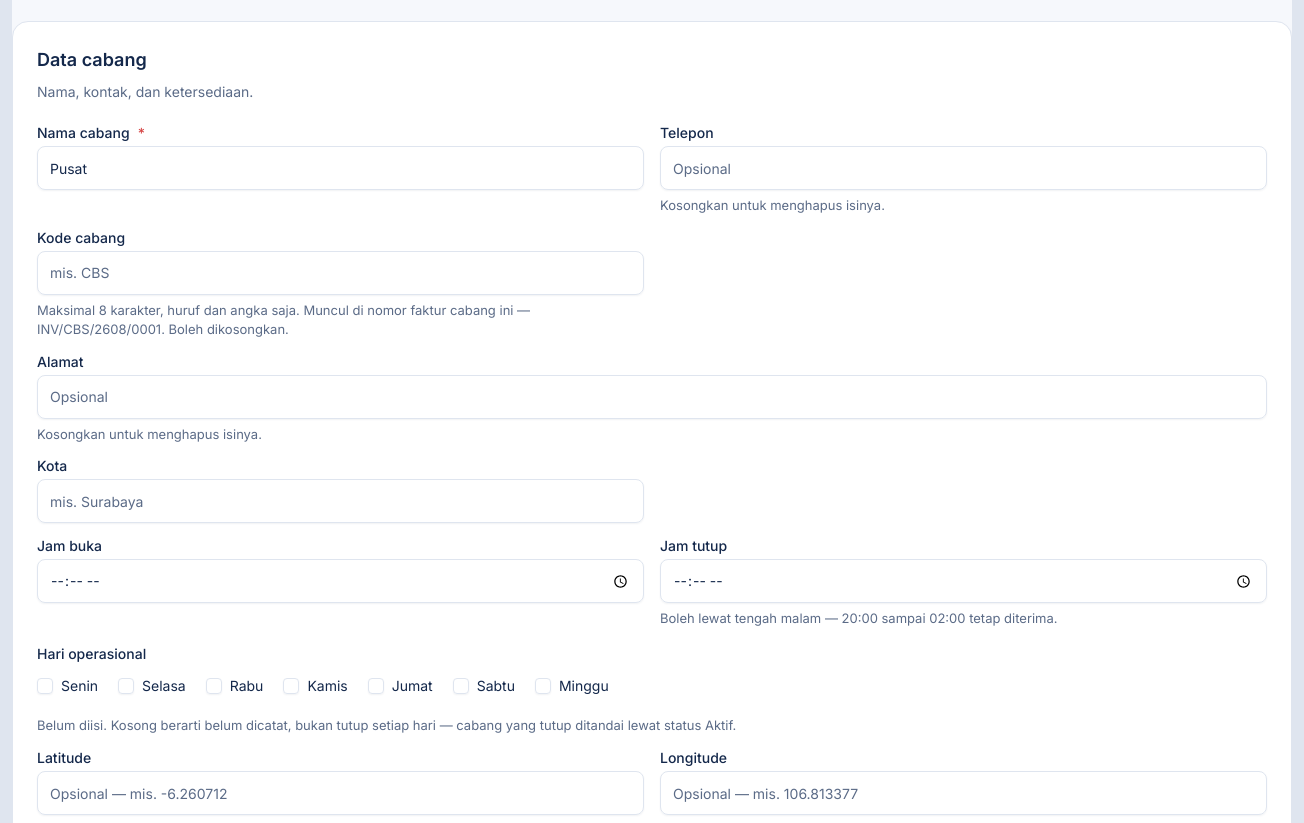
Test: a branch's opening hours › refuses an opening time with no closing one
Type "09:00" into the time field labelled "Jam buka" at [340, 581], box left=37, top=559, right=644, bottom=603
(page scrolled)
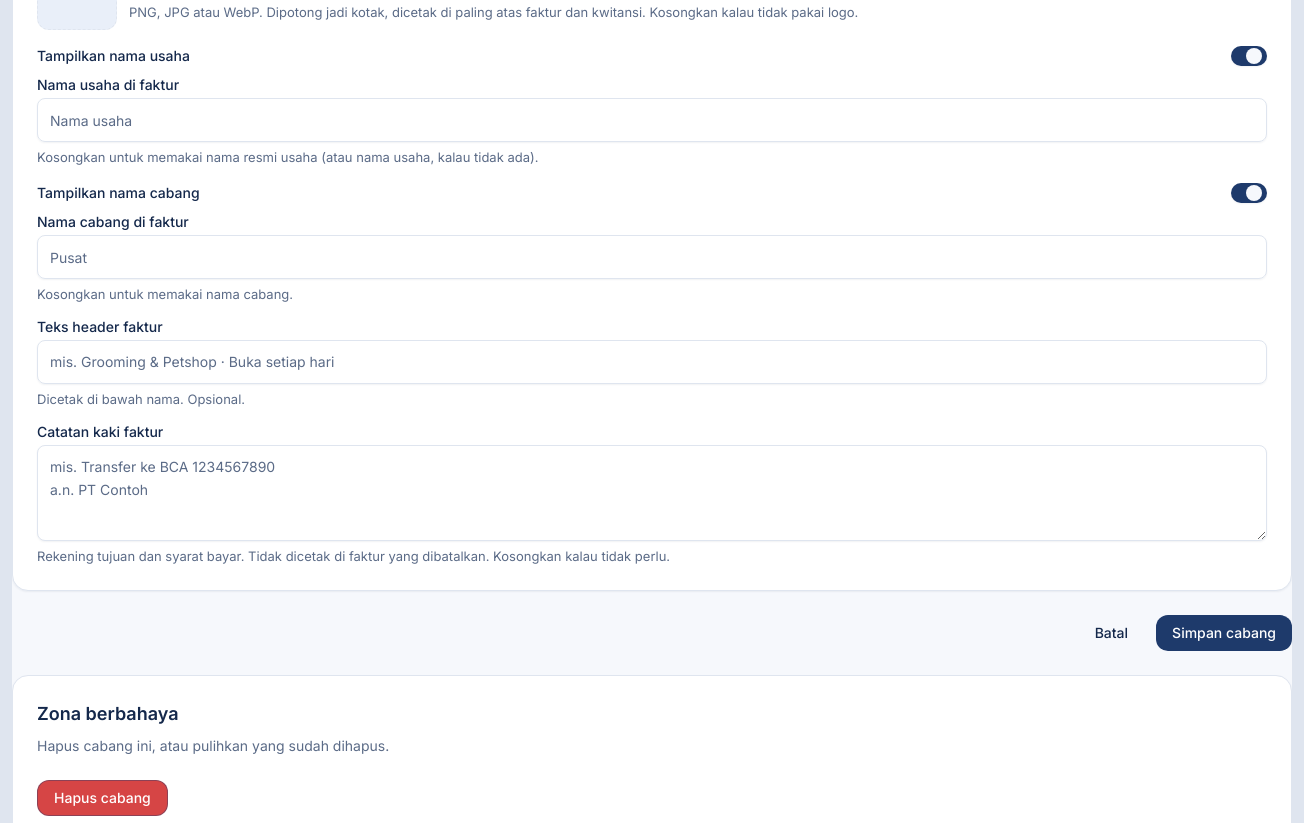
Click the button "Simpan cabang" at [1224, 633], box left=1156, top=615, right=1292, bottom=651
(page scrolled)
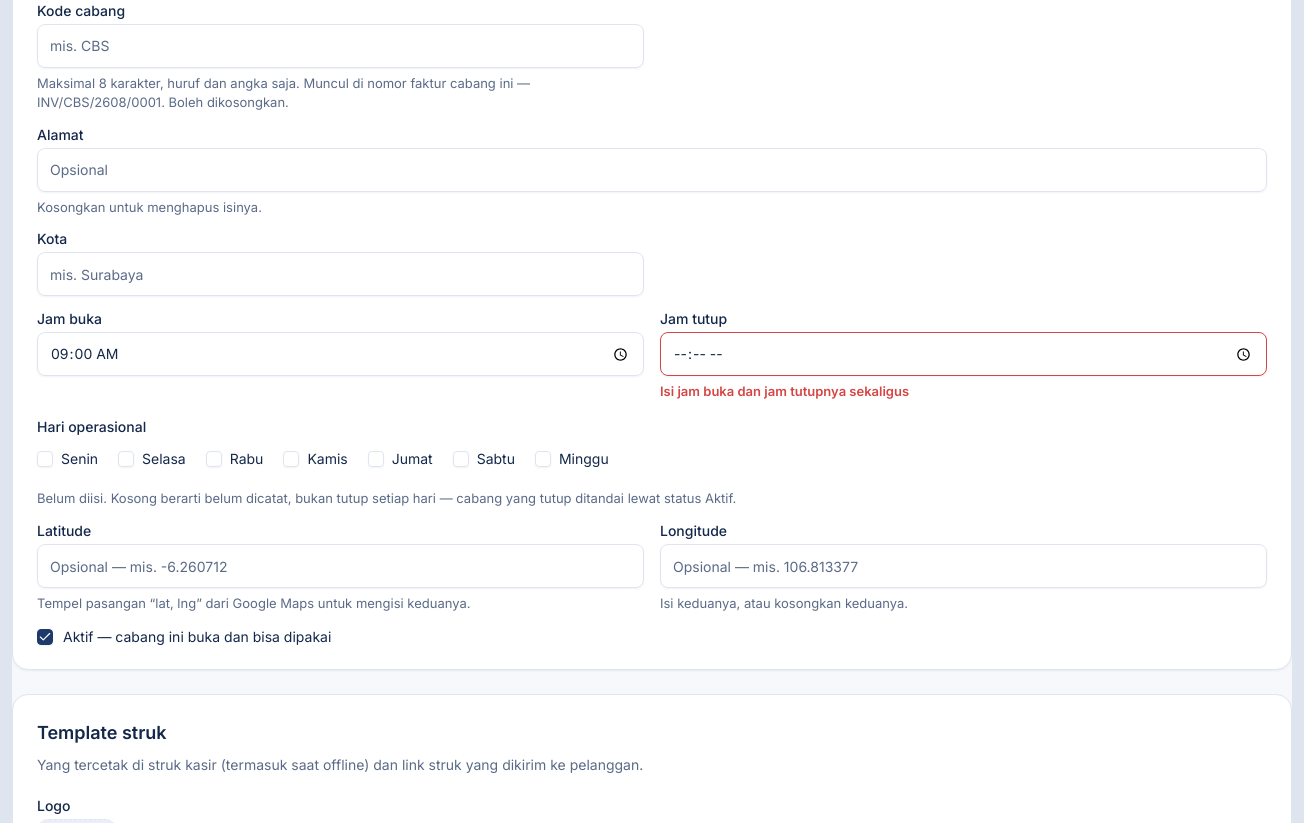
expect the text "Isi jam buka dan jam tutupnya sekaligus" is shown: met, box left=660, top=383, right=909, bottom=399
